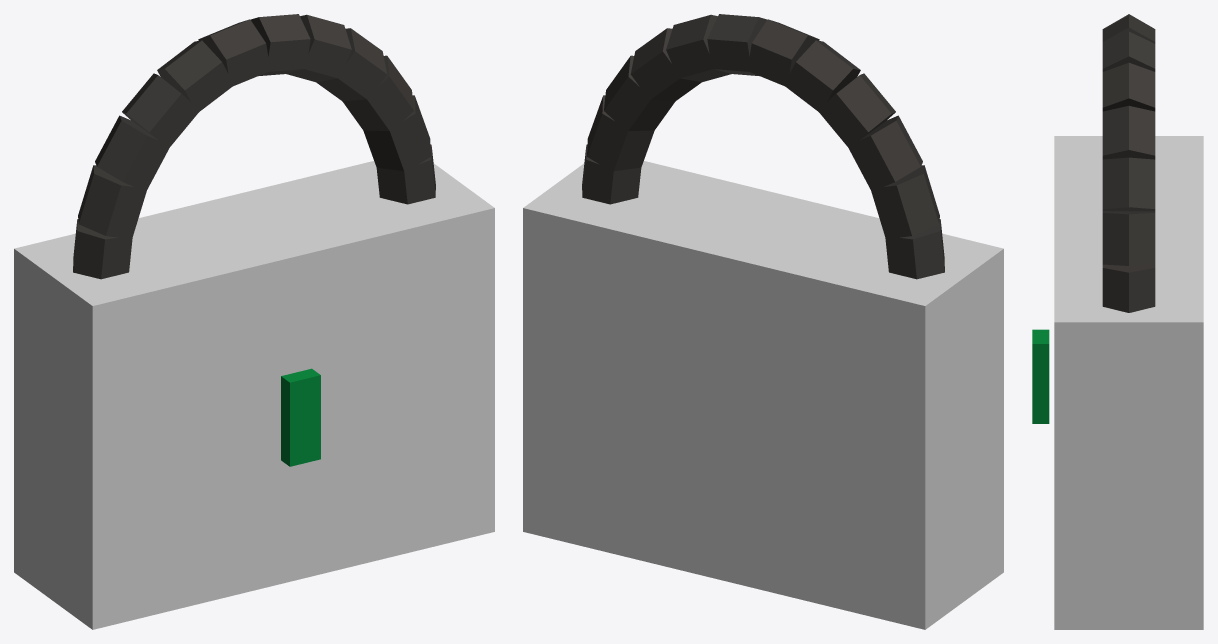
The model's file is P7_immobiliser.glb.
3 views of the same model, side by side, from view 1: azimuth 30°, elevation 25°; view 2: azimuth 150°, elevation 25°; view 3: azimuth 270°, elevation 25° (orthographic). The views are drawn at different scales.
Visible parts, largest first — view 1: lock-body_white, shackle_ink, keyhole_green; view 2: lock-body_white, shackle_ink; view 3: lock-body_white, shackle_ink, keyhole_green.
Boxes of the visible parts, x1=… form: lock-body_white: x1=14, y1=161, x2=494, y2=629; shackle_ink: x1=73, y1=14, x2=435, y2=279; keyhole_green: x1=281, y1=368, x2=320, y2=466; lock-body_white: x1=523, y1=161, x2=1003, y2=629; shackle_ink: x1=582, y1=14, x2=944, y2=279; lock-body_white: x1=1054, y1=136, x2=1203, y2=629; shackle_ink: x1=1102, y1=14, x2=1155, y2=312; keyhole_green: x1=1032, y1=329, x2=1049, y2=423.
Size of the model in its own units: 0.65 by 0.8244 by 0.2525.
